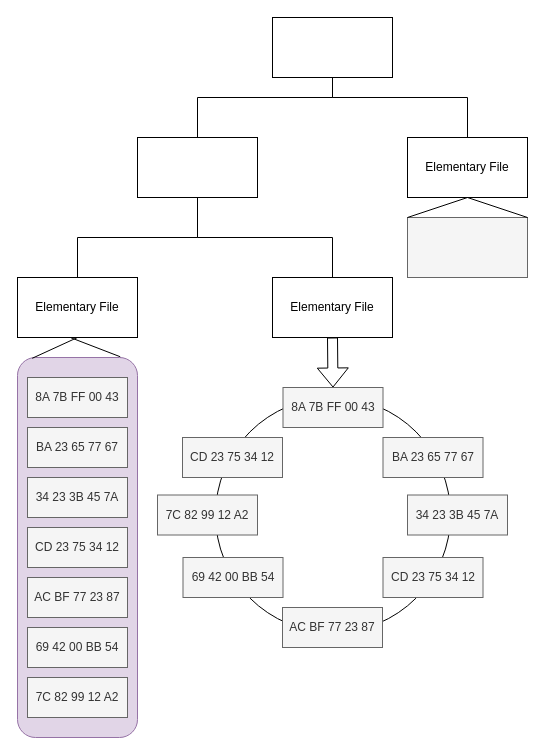
Image size: 546x755. Some labels were removed from this diagram. Here are the shapes that lost their labels. From the top down, the centre of each, then its label:
point 332,47: Master File
point 197,167: Dedicated File
point 467,247: 8A 7B FF 00 43 22
